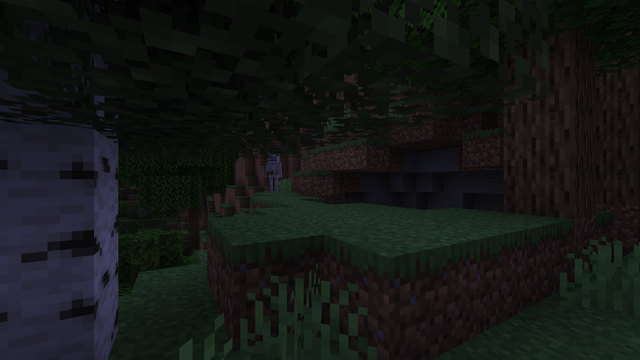squelettes: (266, 162, 281, 192)
